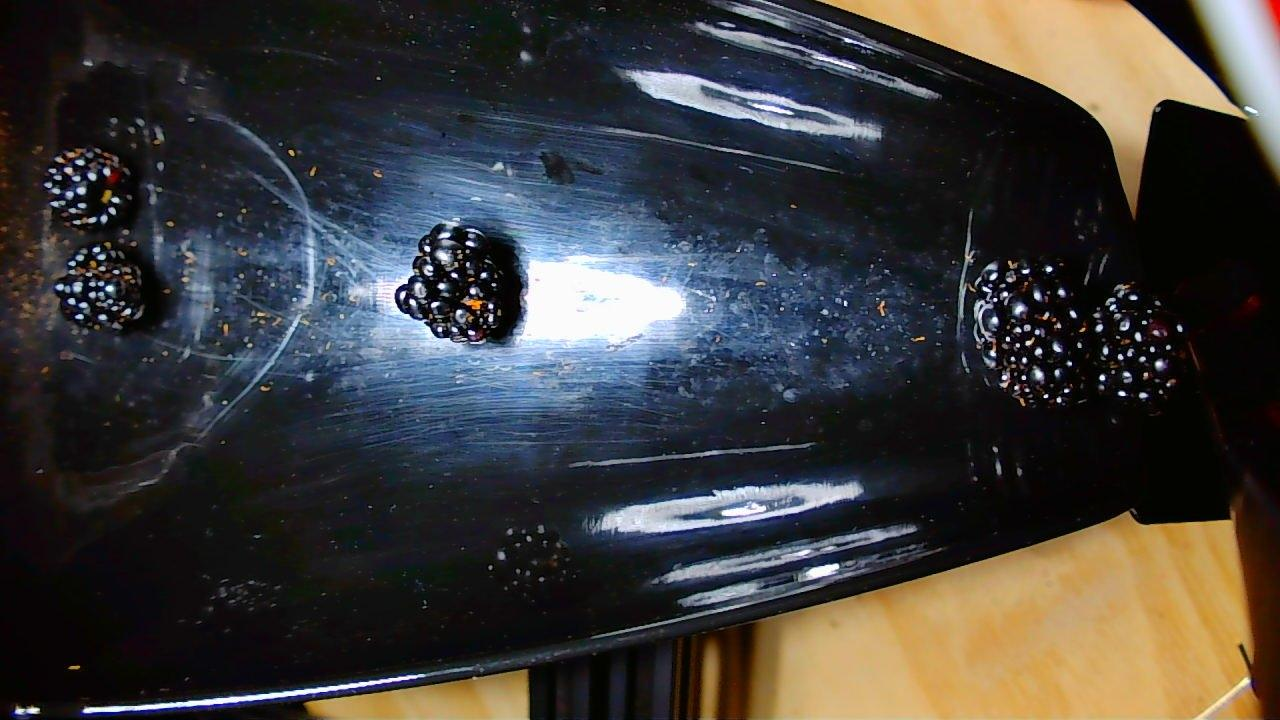berry: (975, 261, 1086, 404), (394, 222, 520, 342), (1080, 284, 1192, 412), (42, 144, 144, 240), (55, 243, 150, 331)
